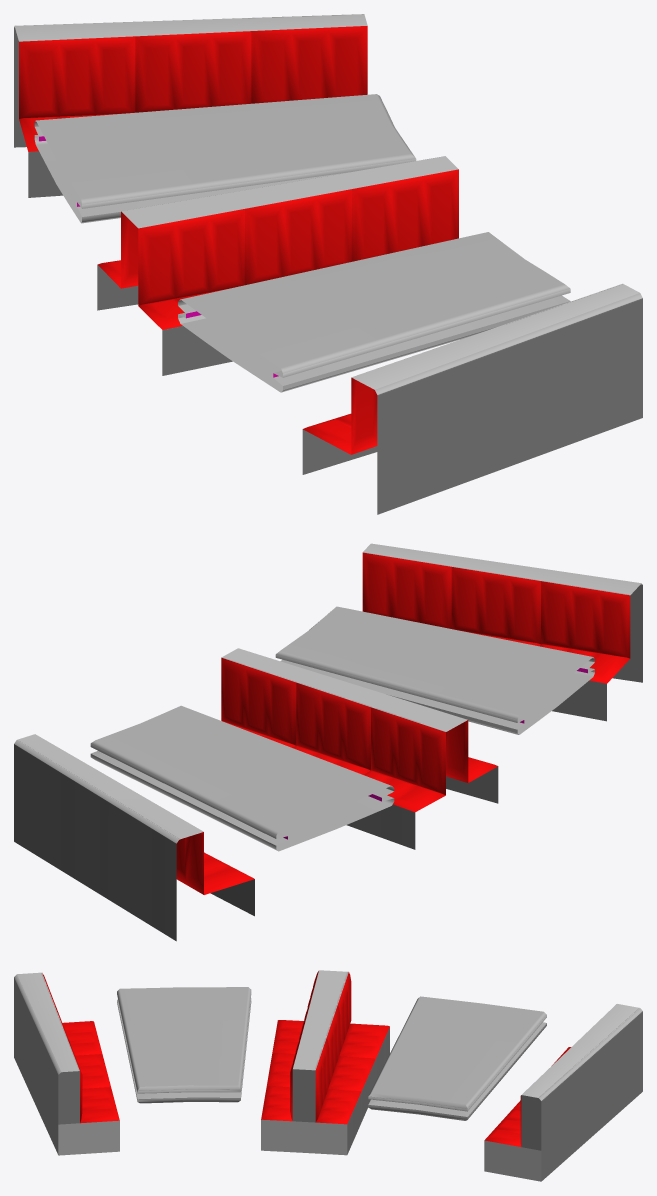
Rendered from BP_Booth.fbx.
3 views of the same model, one above another, from view 1: azimuth 30°, elevation 25°; view 2: azimuth 150°, elevation 25°; view 3: azimuth 270°, elevation 25° (orthographic). The views are drawn at different scales.
Parts seen in each view (by area): view 1: Booths; view 2: Booths; view 3: Booths.
Boxes of the visible parts, x1,y1,x2,y2 form: Booths: (14,14,642,514); Booths: (14,543,642,941); Booths: (14,970,642,1181).
Bounding box in the file's own units: 898 × 264 × 1812.
